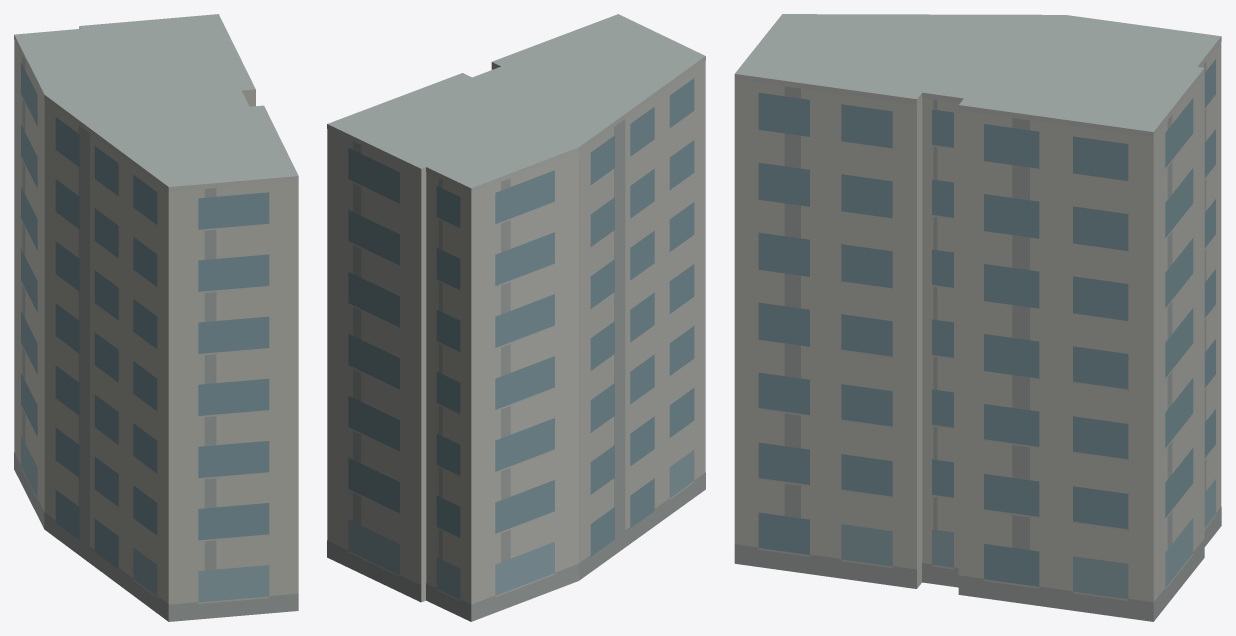
The model's file is survey-upis-32696479.glb.
The picture shows the model from 3 angles, left to right: view 1: azimuth 30°, elevation 25°; view 2: azimuth 150°, elevation 25°; view 3: azimuth 270°, elevation 25°; orthographic projection. The views are drawn at different scales.
Visible parts, largest first — view 1: survey-upis-32696479.tmp; view 2: survey-upis-32696479.tmp; view 3: survey-upis-32696479.tmp.
Part boxes in pixels (left/top/right/bottom): survey-upis-32696479.tmp: left=14, top=14, right=298, bottom=621; survey-upis-32696479.tmp: left=327, top=14, right=705, bottom=621; survey-upis-32696479.tmp: left=734, top=14, right=1221, bottom=621.
Bounding box in the file's own units: 11.05 × 21.35 × 19.24.
